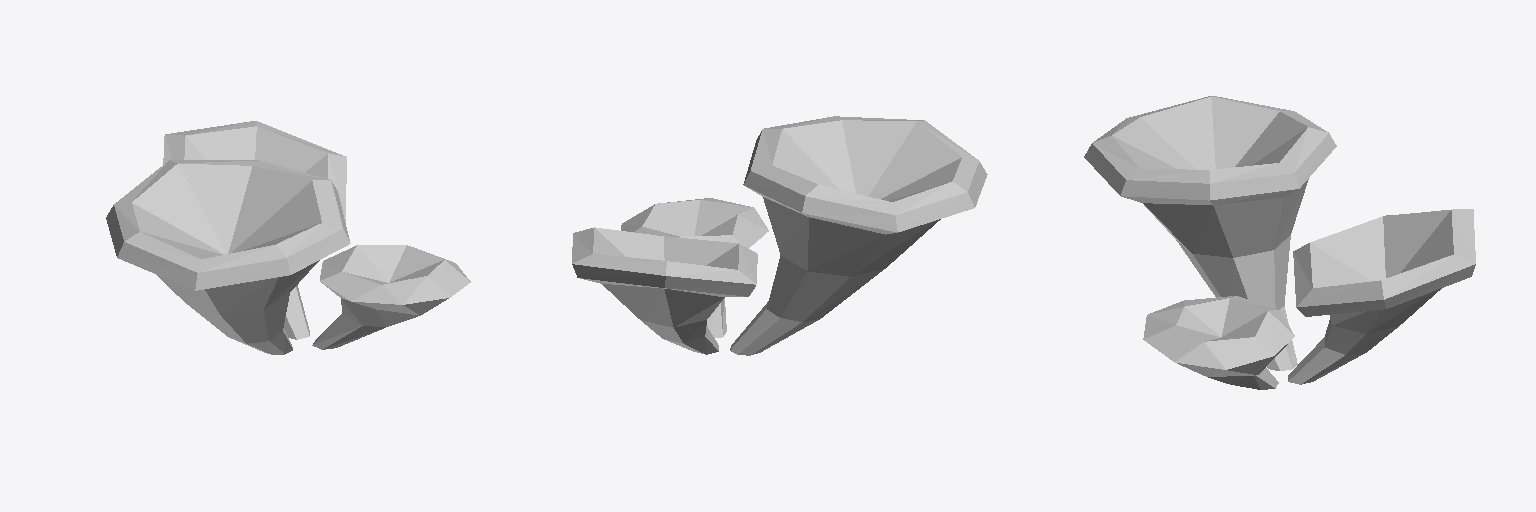
Rendered from fabulous_mushroom_004.obj.
3 renders of one model, left to right at view 1: azimuth 30°, elevation 25°; view 2: azimuth 150°, elevation 25°; view 3: azimuth 270°, elevation 25°, orthographic.
Parts seen in each view (by area): view 1: fabulous_mushroom_004; view 2: fabulous_mushroom_004; view 3: fabulous_mushroom_004.
Boxes of the visible parts, box(x1,y1,x2,y2) form: fabulous_mushroom_004: box(106, 121, 470, 354); fabulous_mushroom_004: box(572, 116, 987, 355); fabulous_mushroom_004: box(1084, 96, 1475, 389).
Size of the model in its own units: 2.16 by 1.16 by 2.12.